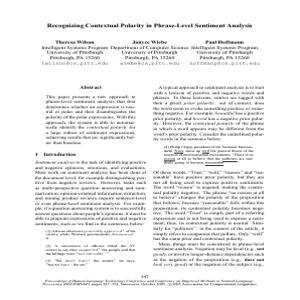text: (150, 84, 266, 271), (31, 84, 150, 266), (36, 36, 263, 72), (37, 18, 254, 33)
